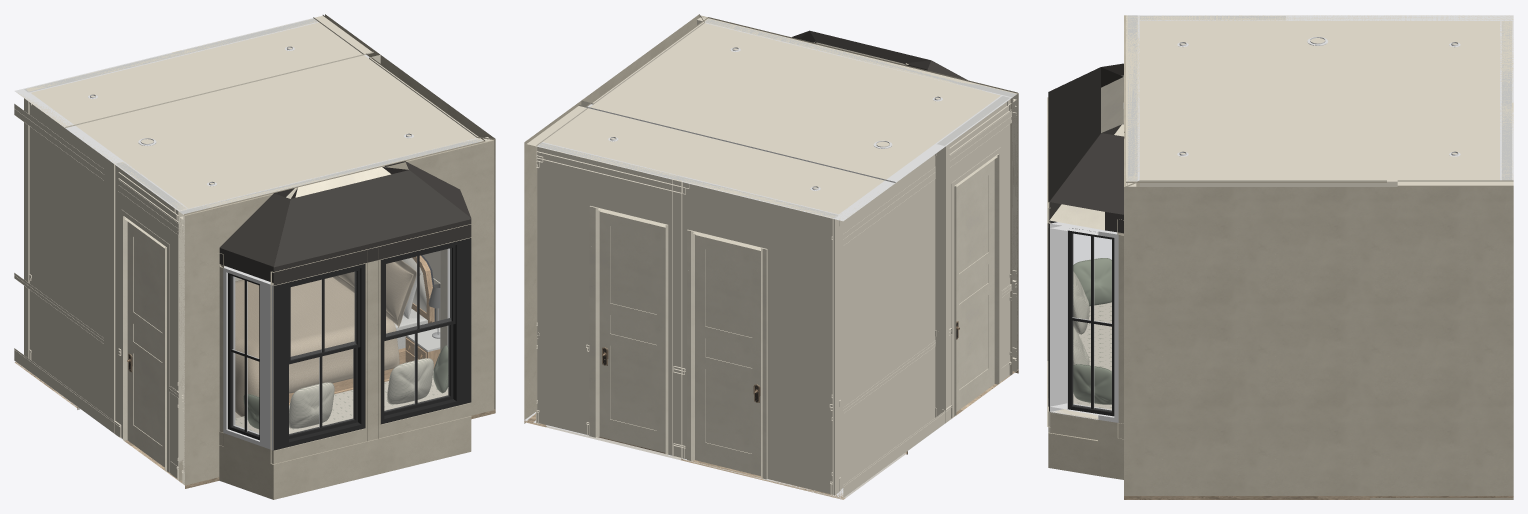
The model's file is loli-bedroom-4e409333a6f1.glb.
3 renders of one model, left to right at view 1: azimuth 30°, elevation 25°; view 2: azimuth 150°, elevation 25°; view 3: azimuth 270°, elevation 25°, orthographic. The views are drawn at different scales.
Parts seen in each view (by area): view 1: loli-bedroom-dbd60ee5c3733ed6, loli-bedroom-93447d0fea18c81b, loli-bedroom-6a1144f4e43410bb, loli-bedroom-fd1c2425c72e98e4, loli-bedroom-4cda501b4aaed82b, loli-bedroom-daa4f3edc919433a, loli-bedroom-2575515a05775d9e, loli-bedroom-7cd33252cebb505d, loli-bedroom-527014f532f46c8e, loli-bedroom-cf6d22c5317ced0b, loli-bedroom-75b75731e5e739a5, loli-bedroom-1c854c81caf855fc (+21 smaller); view 2: loli-bedroom-0e637d2be41161fb, loli-bedroom-dbd60ee5c3733ed6, loli-bedroom-6a1144f4e43410bb, loli-bedroom-eceff908bd344cec, loli-bedroom-5b37b110dc0e2cdc, loli-bedroom-2575515a05775d9e, loli-bedroom-68d06b361ac47823, loli-bedroom-cf6d22c5317ced0b, loli-bedroom-319244b3406409d9, loli-bedroom-93447d0fea18c81b, loli-bedroom-d6b1bc8c737b28e2, loli-bedroom-8cbce1d8f2f8a576 (+15 smaller); view 3: loli-bedroom-592bd9af2ed71797, loli-bedroom-dbd60ee5c3733ed6, loli-bedroom-319244b3406409d9, loli-bedroom-2575515a05775d9e, loli-bedroom-53e6a9e479527da3, loli-bedroom-daa4f3edc919433a, loli-bedroom-131a246e00605616, loli-bedroom-d8b729a36612415b, loli-bedroom-4fba7e1fe7b1aa39, loli-bedroom-93447d0fea18c81b, loli-bedroom-0e637d2be41161fb, loli-bedroom-e0a3201bd49c7536 (+11 smaller).
Part boxes in pixels (x1=…): loli-bedroom-dbd60ee5c3733ed6: x1=75, y1=53, x2=485, y2=215; loli-bedroom-93447d0fea18c81b: x1=178, y1=138, x2=493, y2=485; loli-bedroom-6a1144f4e43410bb: x1=14, y1=88, x2=123, y2=433; loli-bedroom-fd1c2425c72e98e4: x1=274, y1=264, x2=365, y2=450; loli-bedroom-4cda501b4aaed82b: x1=381, y1=238, x2=471, y2=424; loli-bedroom-daa4f3edc919433a: x1=273, y1=167, x2=471, y2=285; loli-bedroom-2575515a05775d9e: x1=18, y1=15, x2=373, y2=127; loli-bedroom-7cd33252cebb505d: x1=235, y1=277, x2=399, y2=416; loli-bedroom-527014f532f46c8e: x1=223, y1=266, x2=273, y2=450; loli-bedroom-cf6d22c5317ced0b: x1=127, y1=222, x2=164, y2=467; loli-bedroom-75b75731e5e739a5: x1=272, y1=259, x2=470, y2=469; loli-bedroom-1c854c81caf855fc: x1=273, y1=421, x2=471, y2=499; loli-bedroom-0e637d2be41161fb: x1=536, y1=142, x2=839, y2=495; loli-bedroom-dbd60ee5c3733ed6: x1=586, y1=17, x2=1017, y2=182; loli-bedroom-6a1144f4e43410bb: x1=833, y1=144, x2=945, y2=497; loli-bedroom-eceff908bd344cec: x1=599, y1=211, x2=665, y2=452; loli-bedroom-5b37b110dc0e2cdc: x1=695, y1=234, x2=760, y2=475; loli-bedroom-2575515a05775d9e: x1=526, y1=105, x2=889, y2=220; loli-bedroom-68d06b361ac47823: x1=935, y1=95, x2=1011, y2=422; loli-bedroom-cf6d22c5317ced0b: x1=956, y1=159, x2=994, y2=411; loli-bedroom-319244b3406409d9: x1=524, y1=100, x2=592, y2=422; loli-bedroom-93447d0fea18c81b: x1=701, y1=15, x2=1018, y2=374; loli-bedroom-d6b1bc8c737b28e2: x1=687, y1=229, x2=767, y2=479; loli-bedroom-8cbce1d8f2f8a576: x1=954, y1=154, x2=999, y2=416; loli-bedroom-592bd9af2ed71797: x1=1124, y1=180, x2=1386, y2=495; loli-bedroom-dbd60ee5c3733ed6: x1=1126, y1=15, x2=1397, y2=182; loli-bedroom-319244b3406409d9: x1=1387, y1=180, x2=1513, y2=495; loli-bedroom-2575515a05775d9e: x1=1397, y1=15, x2=1513, y2=186; loli-bedroom-53e6a9e479527da3: x1=1050, y1=222, x2=1118, y2=422; loli-bedroom-daa4f3edc919433a: x1=1048, y1=67, x2=1123, y2=222; loli-bedroom-131a246e00605616: x1=1049, y1=124, x2=1124, y2=233; loli-bedroom-d8b729a36612415b: x1=1048, y1=235, x2=1123, y2=444; loli-bedroom-4fba7e1fe7b1aa39: x1=1048, y1=433, x2=1123, y2=479; loli-bedroom-93447d0fea18c81b: x1=1124, y1=15, x2=1139, y2=186; loli-bedroom-0e637d2be41161fb: x1=1500, y1=20, x2=1513, y2=180; loli-bedroom-e0a3201bd49c7536: x1=1073, y1=302, x2=1111, y2=409.
Size of the model in its own units: 3.62 by 3.05 by 4.12.
43 materials, 12 textured.
